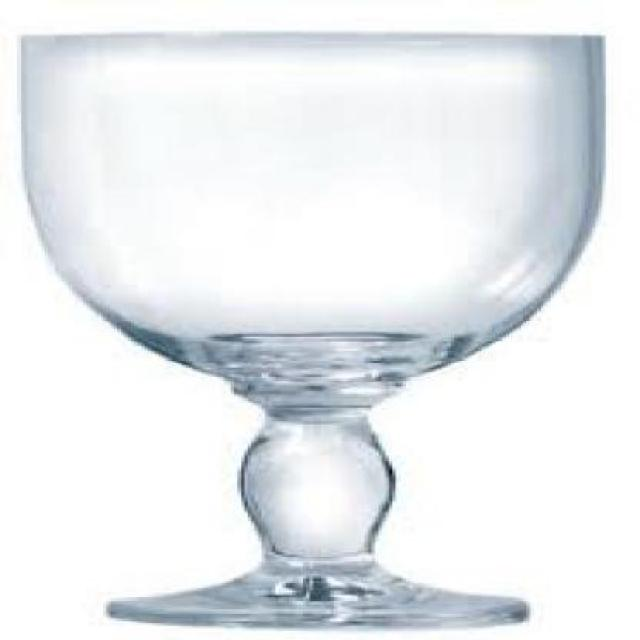kaca: (14, 31, 601, 623)
